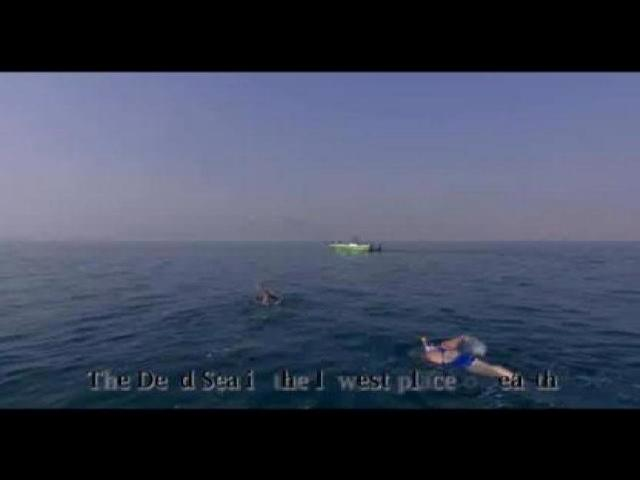swimming: (420, 326, 503, 382)
